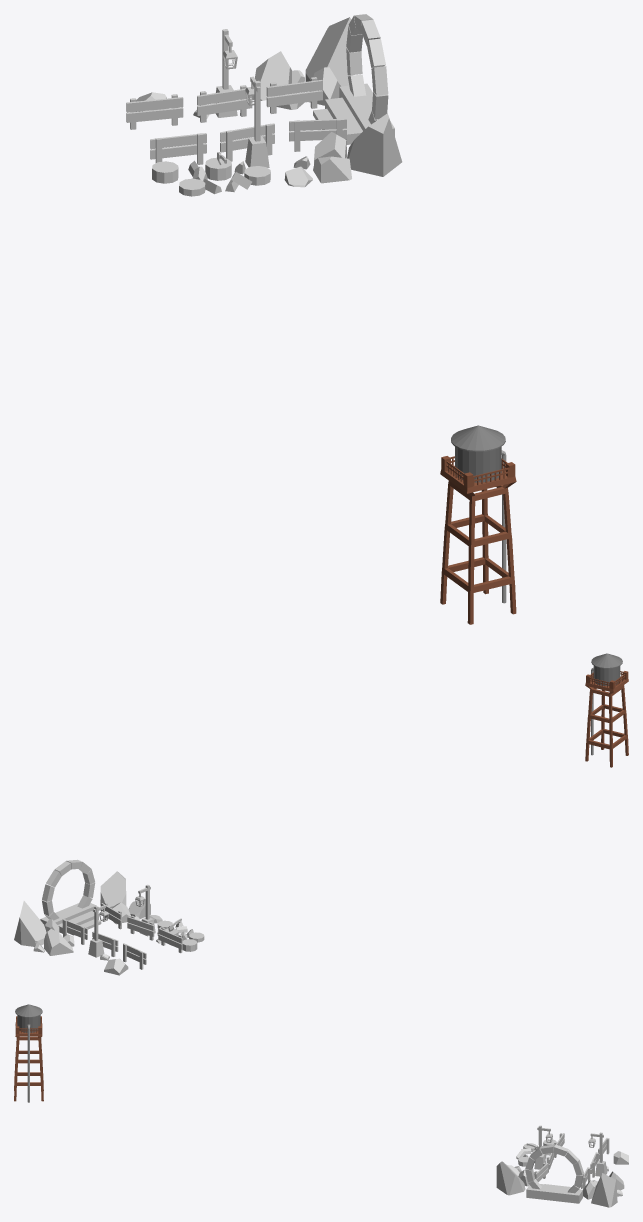
Rendered from portal.glb.
The picture shows the model from 3 angles, top to bottom: view 1: azimuth 30°, elevation 25°; view 2: azimuth 150°, elevation 25°; view 3: azimuth 270°, elevation 25°; orthographic projection. The views are drawn at different scales.
Visible parts, largest first — view 1: baked_lev1, WaterTower; view 2: baked_lev1, WaterTower; view 3: baked_lev1, WaterTower.
Boxes of the visible parts, bbox=[...] form: baked_lev1: bbox=[126, 14, 402, 196]; WaterTower: bbox=[440, 425, 516, 624]; baked_lev1: bbox=[14, 859, 204, 975]; WaterTower: bbox=[585, 653, 628, 767]; baked_lev1: bbox=[496, 1125, 628, 1207]; WaterTower: bbox=[14, 1004, 43, 1102].
Size of the model in its own units: 23.09 by 8.52 by 51.28.
